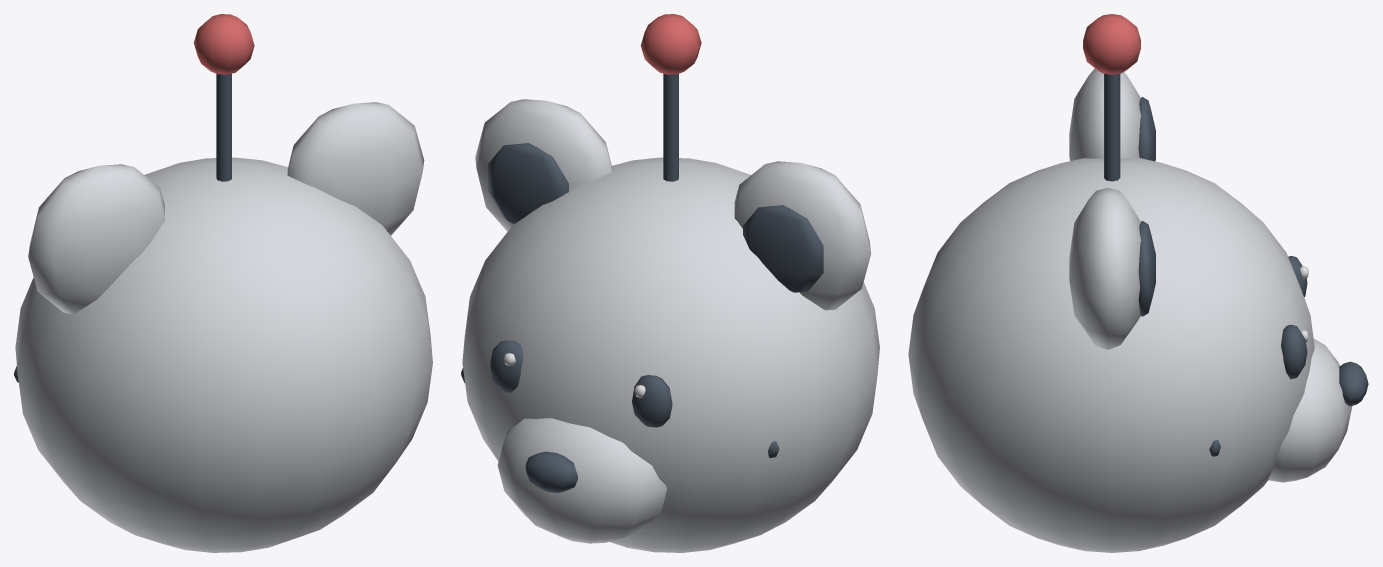
File: graboso-cabeza.glb
3 renders of one model, left to right at view 1: azimuth 30°, elevation 25°; view 2: azimuth 150°, elevation 25°; view 3: azimuth 270°, elevation 25°, orthographic.
Parts seen in each view (by area): view 1: concha, piloto, rasgos; view 2: concha, rasgos, piloto; view 3: concha, rasgos, piloto.
Boxes of the visible parts, x1,y1,x2,y2 form: concha: (15, 102, 432, 552); piloto: (194, 14, 254, 74); rasgos: (14, 73, 231, 382); concha: (462, 99, 879, 552); rasgos: (461, 73, 823, 492); piloto: (640, 14, 701, 74); concha: (908, 68, 1352, 552); rasgos: (1104, 73, 1368, 456); piloto: (1083, 14, 1140, 74).
Size of the model in its own units: 0.448 by 0.558 by 0.452.
